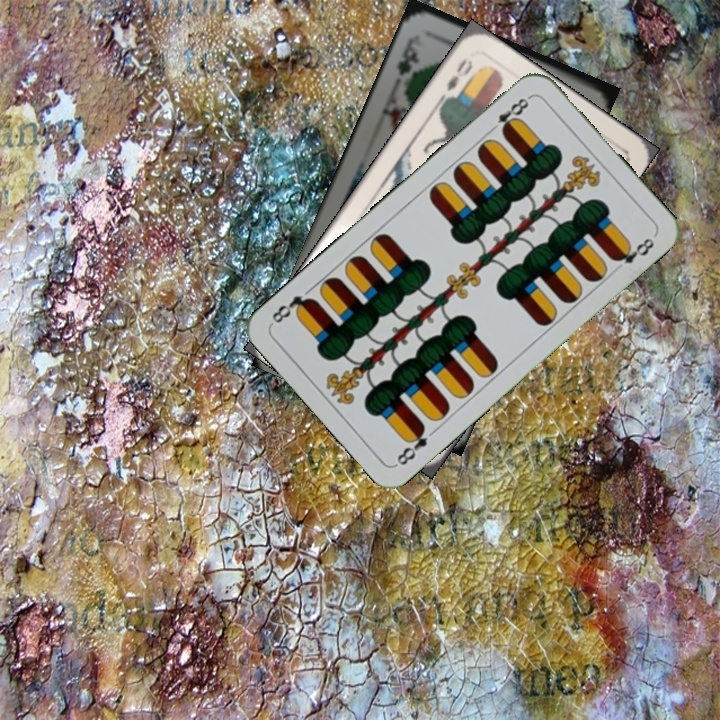E8: (485, 92, 534, 137), (392, 420, 431, 469)
EO: (437, 54, 476, 103)
GK: (392, 34, 421, 79)
